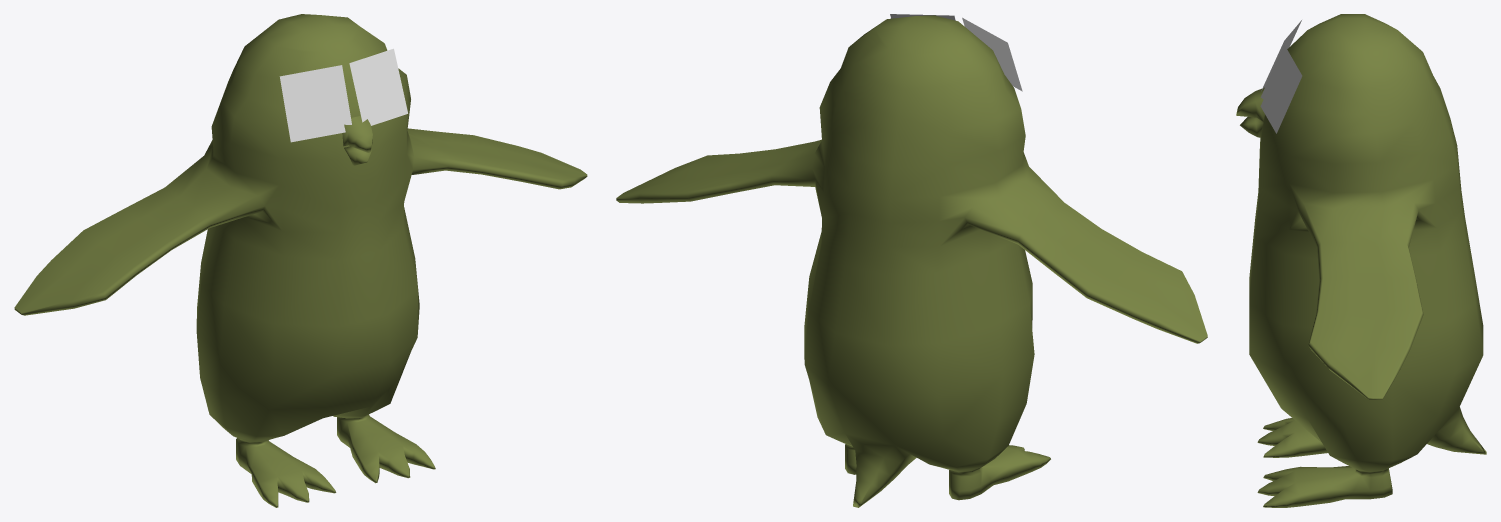
File: MESH_FigPenguin04.fbx
The picture shows the model from 3 angles, left to right: view 1: azimuth 30°, elevation 25°; view 2: azimuth 150°, elevation 25°; view 3: azimuth 270°, elevation 25°; orthographic projection. The views are drawn at different scales.
Parts seen in each view (by area): view 1: MESH_FIGPENGUIN4; view 2: MESH_FIGPENGUIN4; view 3: MESH_FIGPENGUIN4.
Boxes of the visible parts, x1=… form: MESH_FIGPENGUIN4: x1=14, y1=14, x2=587, y2=507; MESH_FIGPENGUIN4: x1=616, y1=14, x2=1207, y2=507; MESH_FIGPENGUIN4: x1=1236, y1=14, x2=1486, y2=507.
Size of the model in its own units: 160 by 117 by 60.17.
